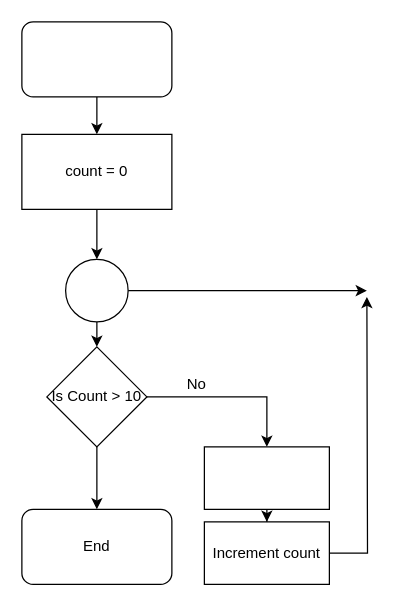
Some shapes in this 400 by 606 pixel diagram are drawn without their labels. Here are the shapes that lost their labels. From the top down, the centre of each, then its label:
point (96, 59): start
point (266, 477): Perform a task
